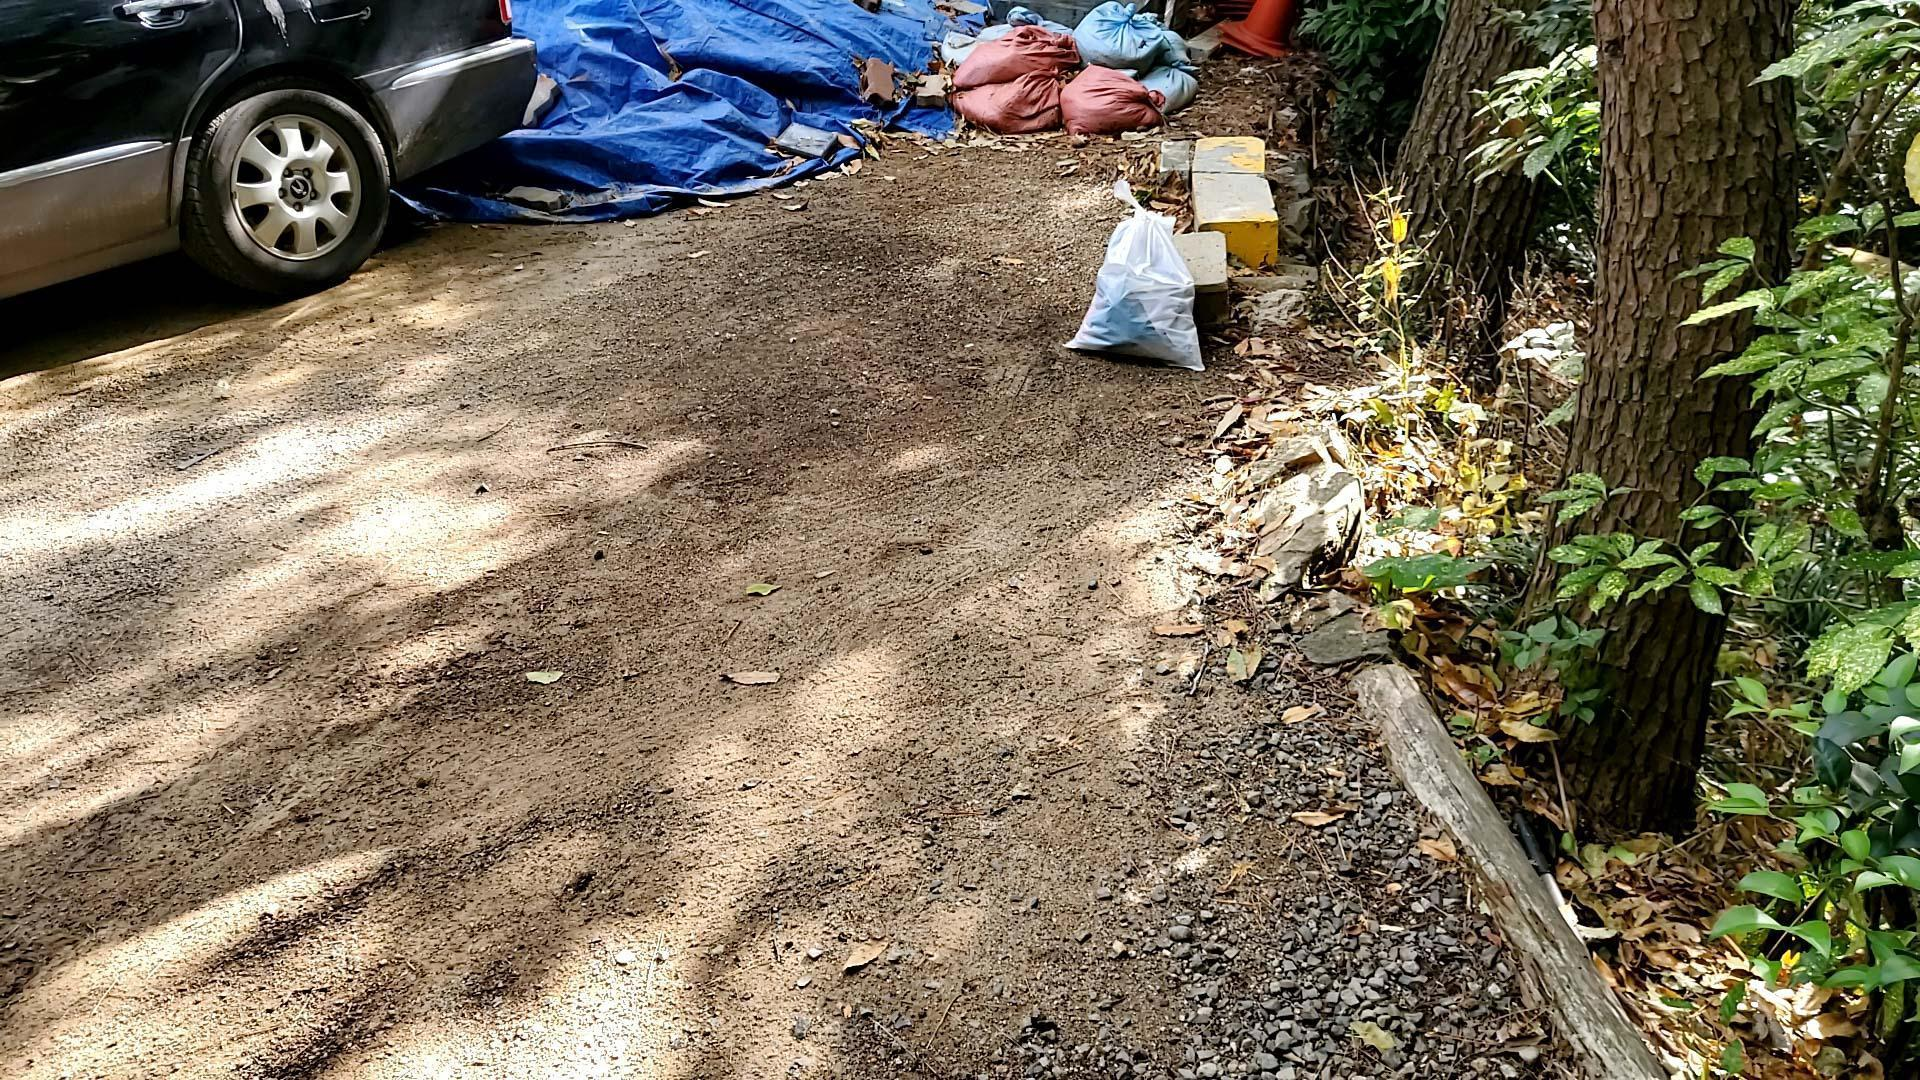white_bag: (1051, 174, 1218, 377)
